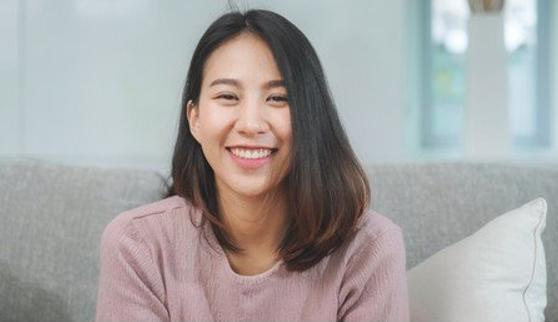Sober: (201, 52, 291, 184)
